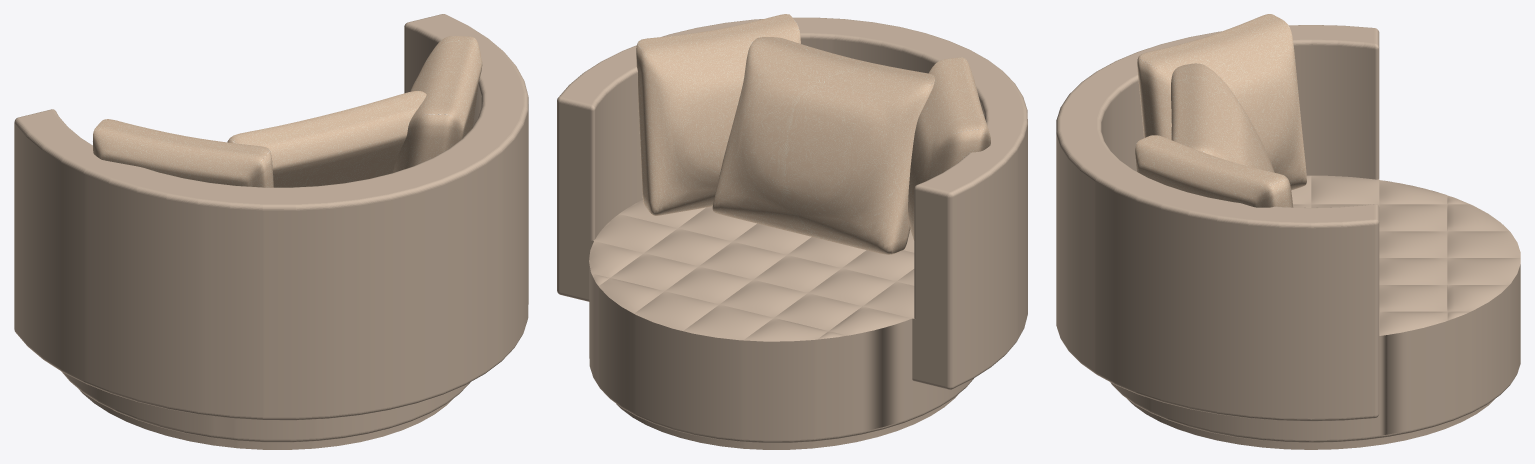
3 views of the same model, side by side, from view 1: azimuth 30°, elevation 25°; view 2: azimuth 150°, elevation 25°; view 3: azimuth 270°, elevation 25° (orthographic). The views are drawn at different scales.
Visible parts, largest first — view 1: mesh71_mesh71-geometry, mesh70_mesh70-geometry, mesh69_mesh69-geometry, mesh68_mesh68-geometry; view 2: mesh71_mesh71-geometry, mesh70_mesh70-geometry, mesh68_mesh68-geometry, mesh69_mesh69-geometry, mesh35_mesh35-geometry, mesh36_mesh36-geometry, mesh34_mesh34-geometry, mesh3_mesh3-geometry, mesh21_mesh21-geometry, mesh7_mesh7-geometry, mesh8_mesh8-geometry, mesh18_mesh18-geometry (+13 smaller); view 3: mesh71_mesh71-geometry, mesh69_mesh69-geometry, mesh70_mesh70-geometry, mesh68_mesh68-geometry, mesh23_mesh23-geometry, mesh9_mesh9-geometry, mesh36_mesh36-geometry, mesh35_mesh35-geometry, mesh3_mesh3-geometry, mesh6_mesh6-geometry, mesh8_mesh8-geometry, mesh31_mesh31-geometry (+3 smaller).
Part boxes in pixels (left/top/right/bottom): mesh71_mesh71-geometry: left=14, top=14, right=528, bottom=449; mesh70_mesh70-geometry: left=227, top=91, right=426, bottom=187; mesh69_mesh69-geometry: left=93, top=119, right=273, bottom=187; mesh68_mesh68-geometry: left=393, top=35, right=482, bottom=172; mesh71_mesh71-geometry: left=557, top=17, right=1027, bottom=449; mesh70_mesh70-geometry: left=712, top=37, right=935, bottom=254; mesh68_mesh68-geometry: left=636, top=14, right=800, bottom=215; mesh69_mesh69-geometry: left=908, top=57, right=990, bottom=240; mesh35_mesh35-geometry: left=683, top=304, right=773, bottom=340; mesh36_mesh36-geometry: left=634, top=291, right=718, bottom=330; mesh34_mesh34-geometry: left=594, top=214, right=677, bottom=252; mesh3_mesh3-geometry: left=665, top=266, right=752, bottom=304; mesh21_mesh21-geometry: left=699, top=241, right=786, bottom=279; mesh7_mesh7-geometry: left=644, top=228, right=732, bottom=266; mesh8_mesh8-geometry: left=720, top=279, right=807, bottom=317; mesh18_mesh18-geometry: left=754, top=255, right=841, bottom=292; mesh71_mesh71-geometry: left=1056, top=25, right=1520, bottom=449; mesh69_mesh69-geometry: left=1137, top=14, right=1306, bottom=190; mesh70_mesh70-geometry: left=1171, top=63, right=1274, bottom=172; mesh68_mesh68-geometry: left=1135, top=135, right=1293, bottom=207; mesh23_mesh23-geometry: left=1311, top=175, right=1379, bottom=204; mesh9_mesh9-geometry: left=1379, top=204, right=1447, bottom=231; mesh36_mesh36-geometry: left=1447, top=258, right=1520, bottom=284; mesh35_mesh35-geometry: left=1447, top=231, right=1520, bottom=257; mesh3_mesh3-geometry: left=1379, top=258, right=1447, bottom=284; mesh6_mesh6-geometry: left=1379, top=285, right=1447, bottom=311; mesh8_mesh8-geometry: left=1379, top=231, right=1447, bottom=257; mesh31_mesh31-geometry: left=1379, top=311, right=1447, bottom=335.
Size of the model in its own units: 0.6508 by 0.4141 by 0.6357.
